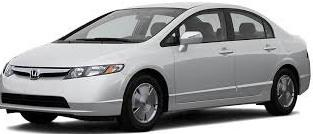Cars: (1, 5, 312, 132)
